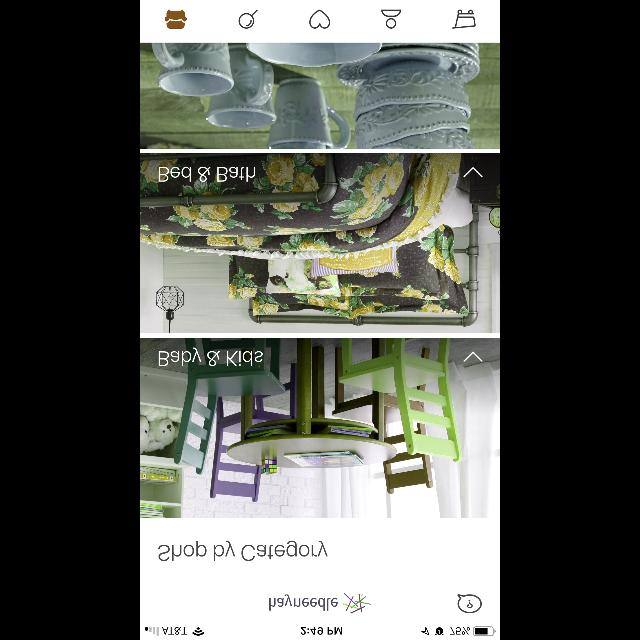icon: (452, 10, 476, 28), (458, 594, 482, 612), (381, 10, 401, 28), (310, 10, 330, 28), (238, 10, 258, 28), (463, 166, 483, 178), (463, 352, 482, 362)
image: (140, 153, 500, 333), (140, 338, 500, 518), (140, 43, 500, 149), (343, 593, 371, 613), (165, 10, 187, 28)
text: (158, 541, 328, 561), (159, 348, 263, 367), (158, 166, 255, 182), (269, 594, 337, 610)
uppertaskbar: (140, 626, 500, 640)
